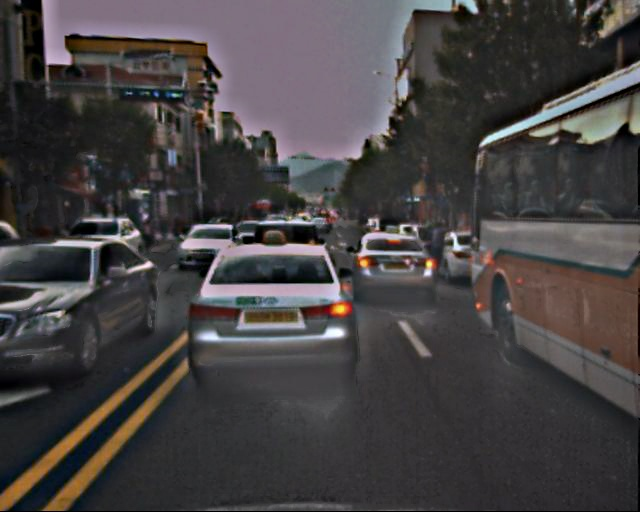person: (427, 218, 452, 292)
